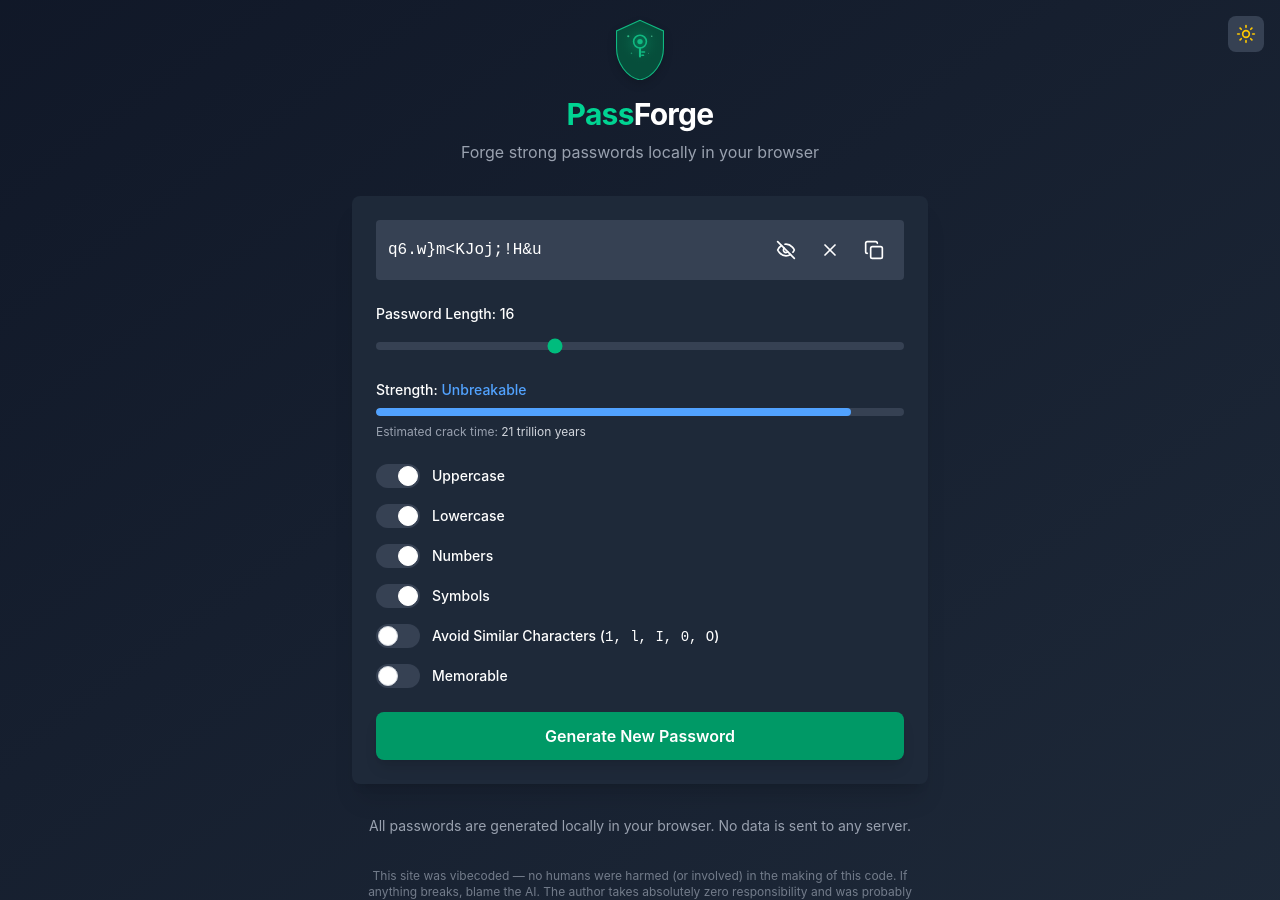
App component › generates a new password when the button is clicked
What coordinates should you click on to do the following:
click the button "Generate New Password"
I would click on:
 (640, 736)
Its box is left=376, top=712, right=904, bottom=760.
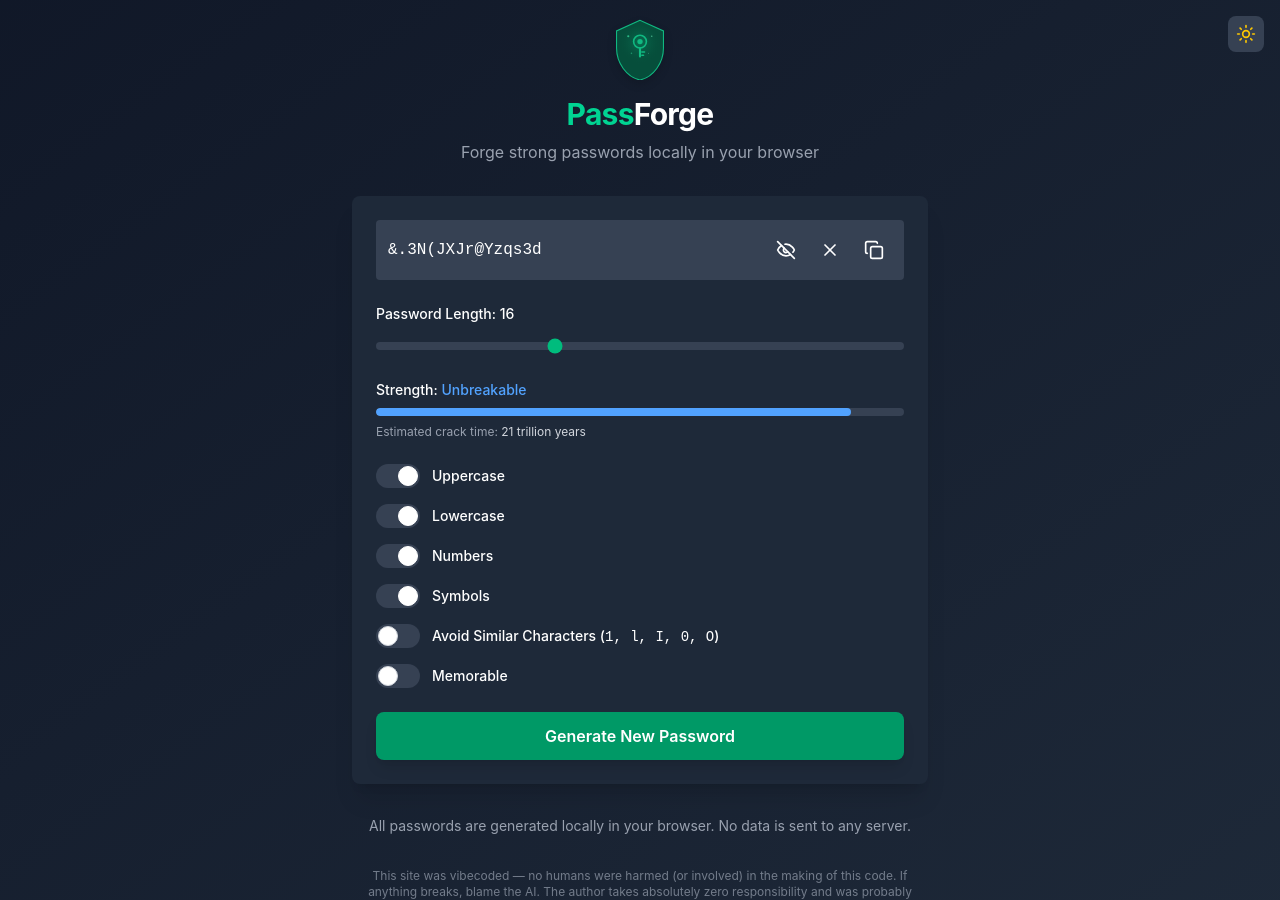
Expected: the field with placeholder "Generated password will appear here" is not empty, left=388, top=238, right=760, bottom=262
